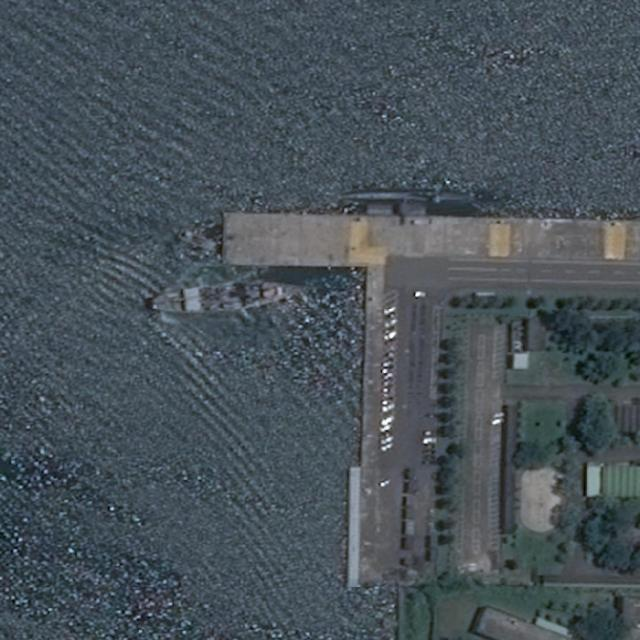Other Warship: (151, 274, 305, 318)
Submarine: (337, 189, 479, 202)
